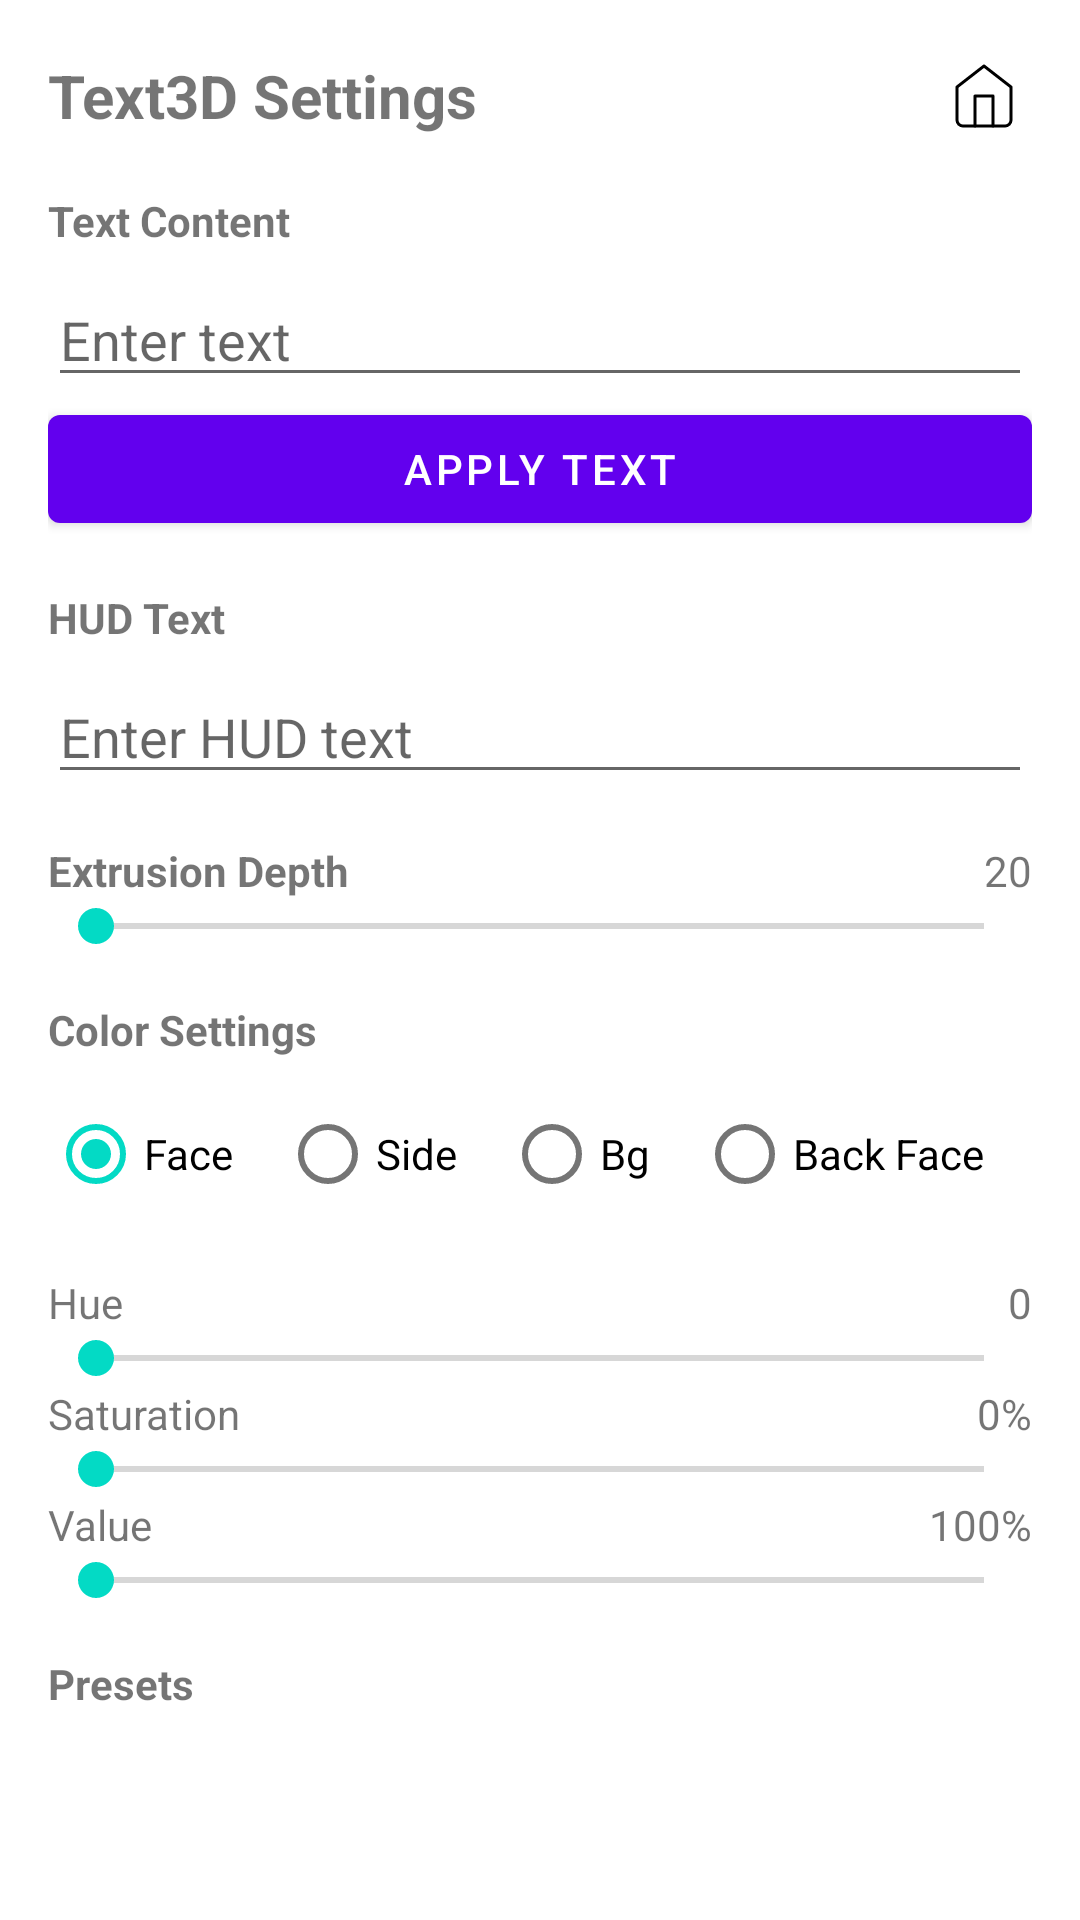

Icons on this 1080*1920 Android screen, each with the point to tap as point (x, y):
Back to Launcher: point (984, 96)
